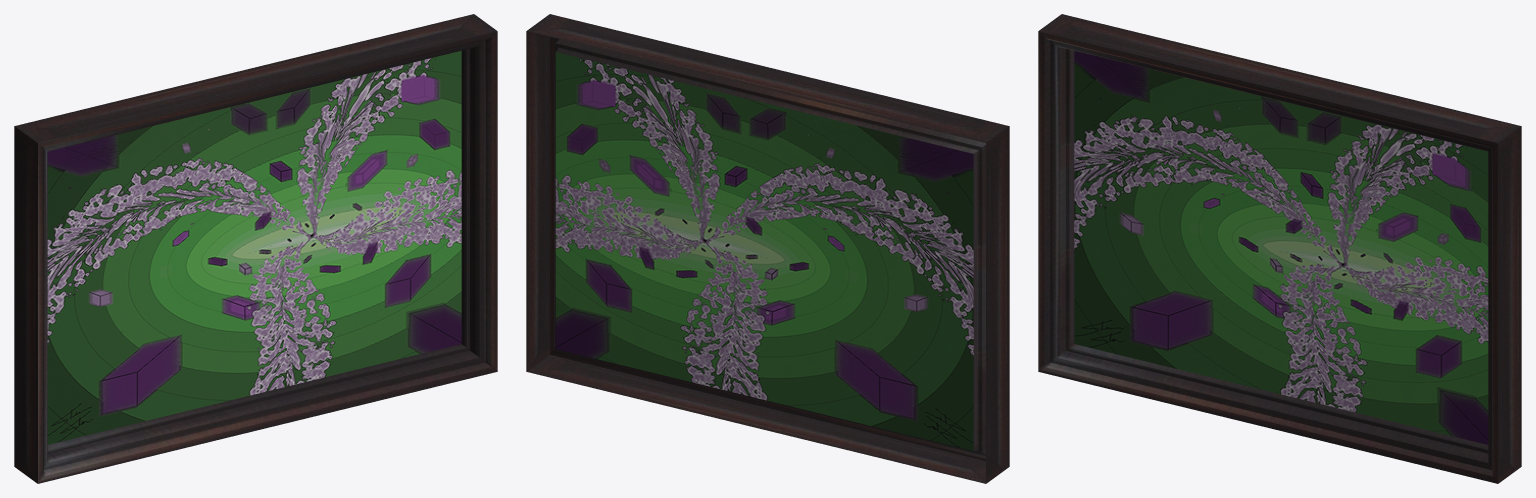
The model's file is RoomArt4.FBX.
The picture shows the model from 3 angles, left to right: view 1: azimuth 30°, elevation 25°; view 2: azimuth 150°, elevation 25°; view 3: azimuth 330°, elevation 25°; orthographic projection.
Visible parts, largest first — view 1: Box001; view 2: Box001; view 3: Box001.
Part boxes in pixels (<box>): Box001: <box>14,14,497,483</box>; Box001: <box>526,14,1009,483</box>; Box001: <box>1038,14,1521,483</box>.
Bounding box in the file's own units: 99.25 × 70.3 × 8.74.
